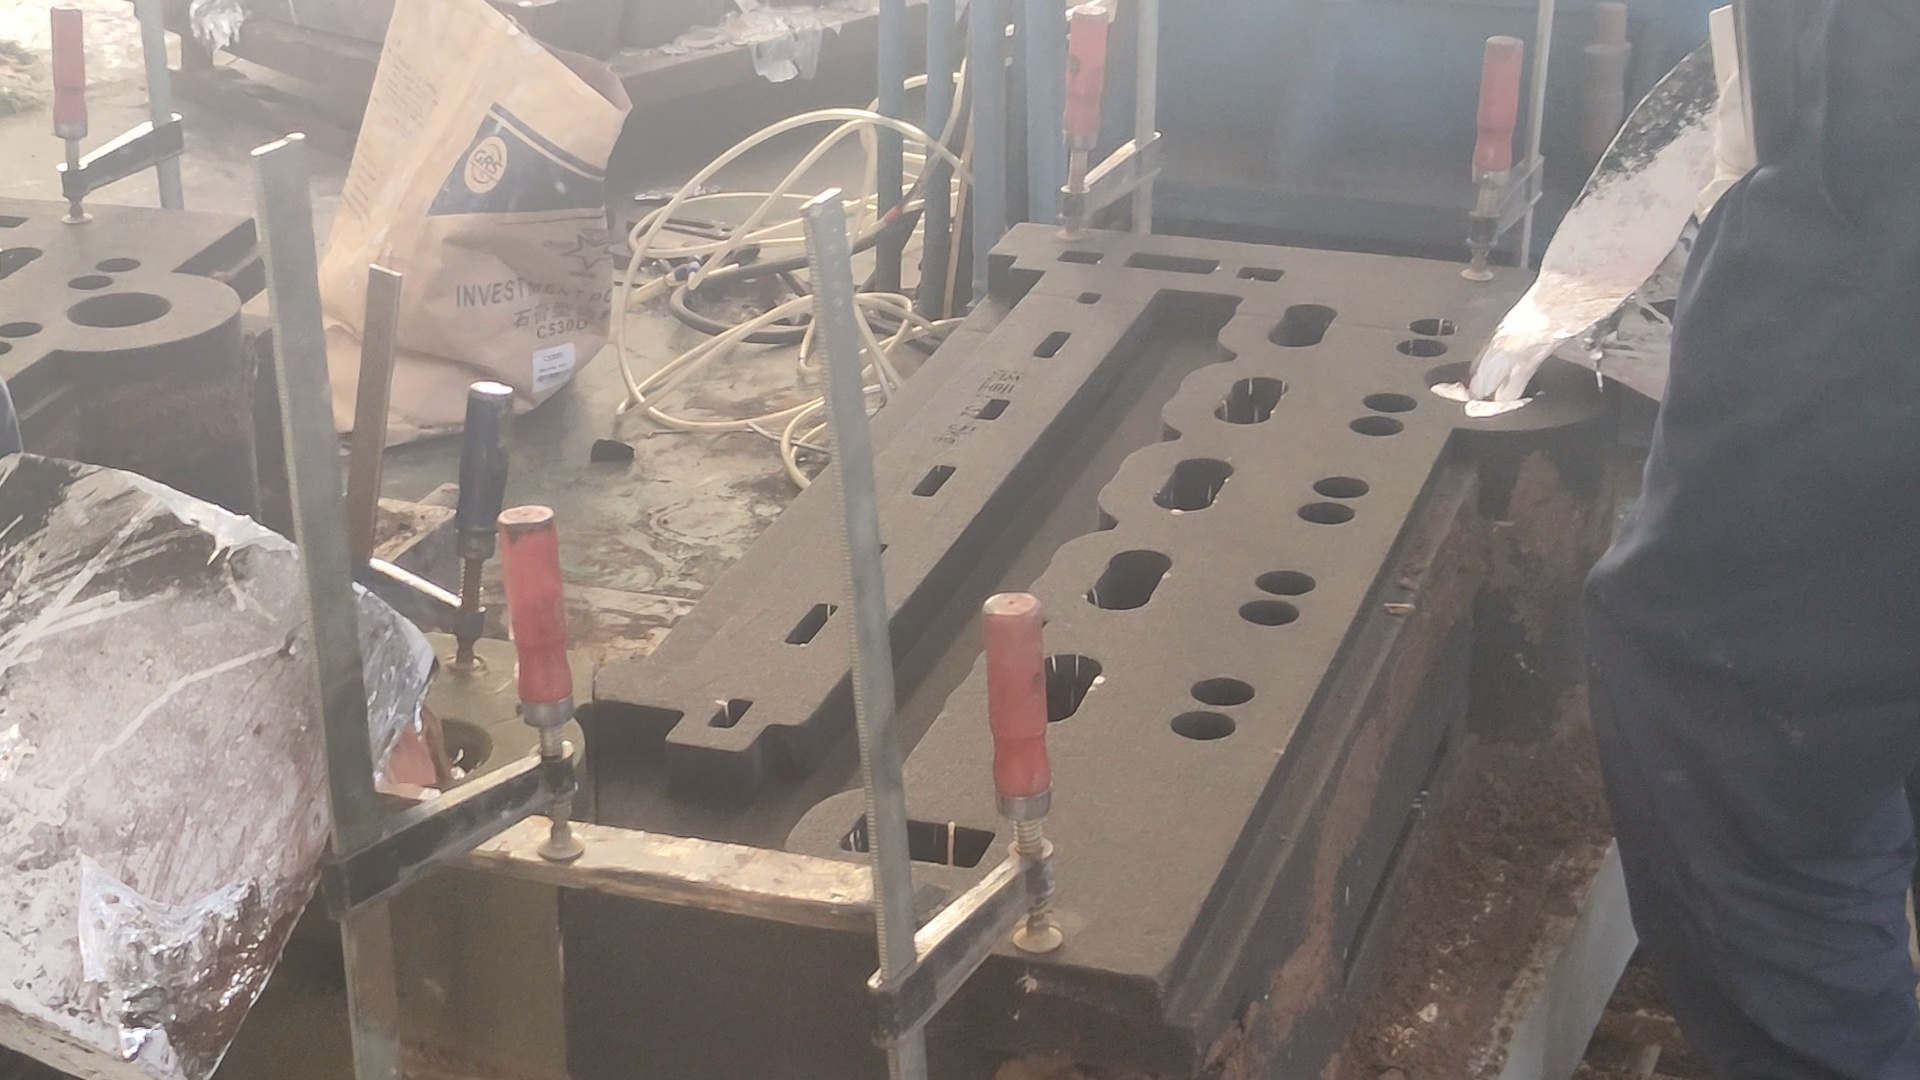pouring hole: (376, 712, 495, 789), (1422, 357, 1549, 406), (59, 290, 175, 328)
